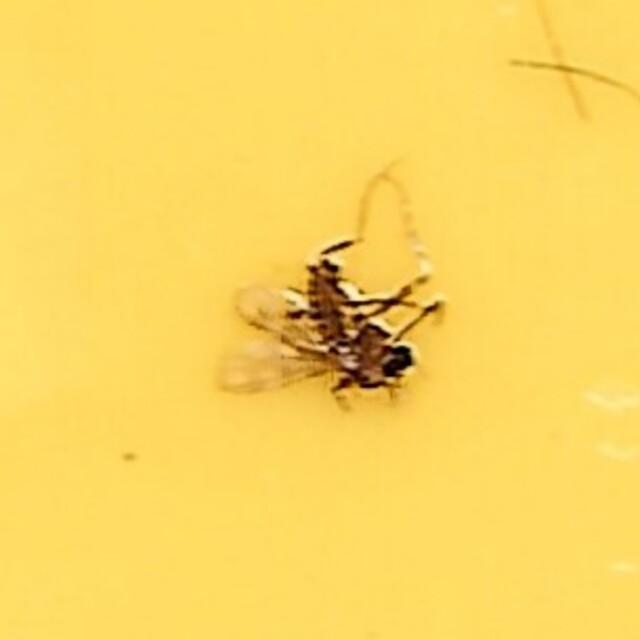Nematocera: (210, 223, 430, 417)
